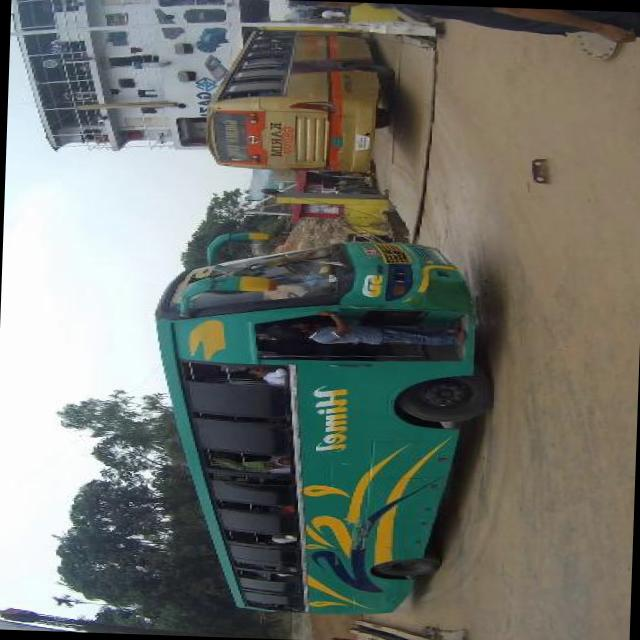bus: (143, 221, 499, 616), (201, 27, 394, 172)
